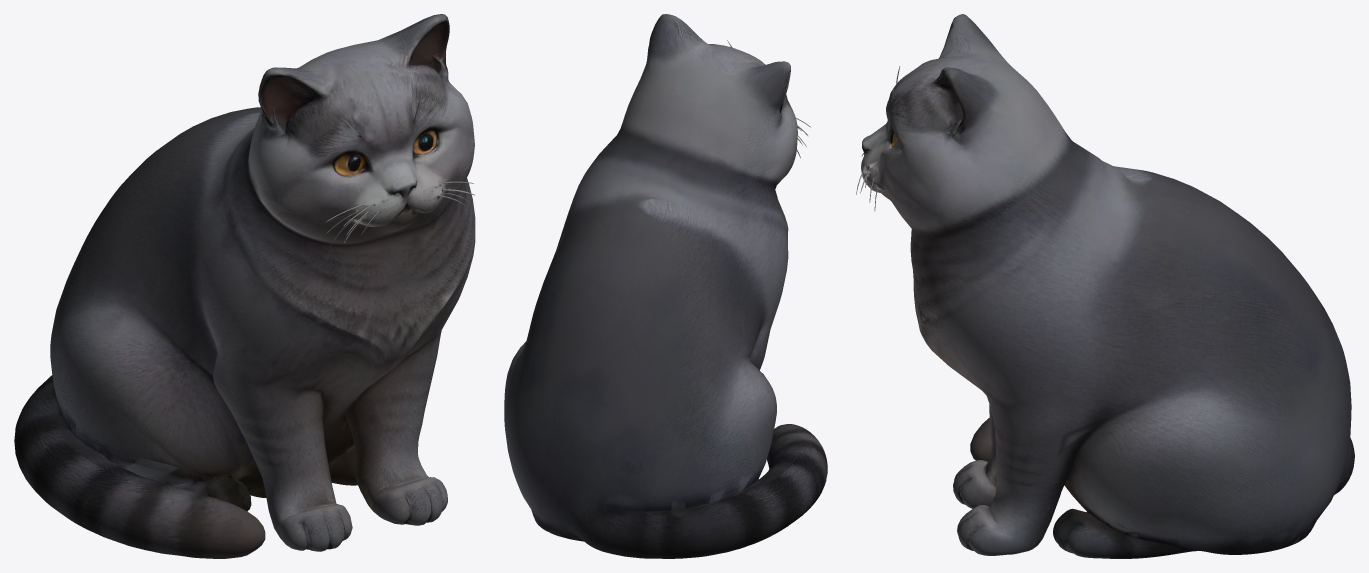
File: cacao_cat.glb
The picture shows the model from 3 angles, left to right: view 1: azimuth 30°, elevation 25°; view 2: azimuth 150°, elevation 25°; view 3: azimuth 270°, elevation 25°; orthographic projection. The views are drawn at different scales.
Visible parts, largest first — view 1: Object_4; view 2: Object_4; view 3: Object_4.
Boxes of the visible parts, <box> form: Object_4: <box>14,14,475,558</box>; Object_4: <box>504,14,827,558</box>; Object_4: <box>856,14,1354,558</box>.
Bounding box in the file's own units: 0.6476 × 0.9132 × 0.8548.
1 material, 1 textured.
